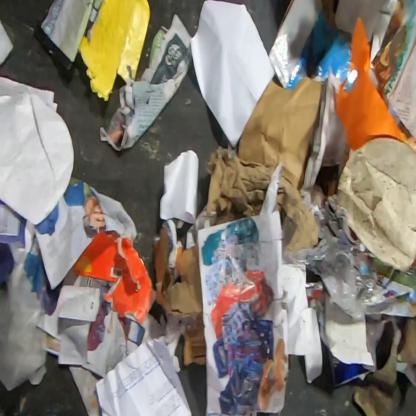cardboard: (237, 75, 323, 191), (267, 0, 358, 95), (71, 231, 157, 326), (153, 225, 206, 367), (78, 0, 151, 103), (206, 141, 276, 226), (272, 177, 319, 250)
soft_plastic: (283, 224, 384, 322), (0, 264, 48, 392)
